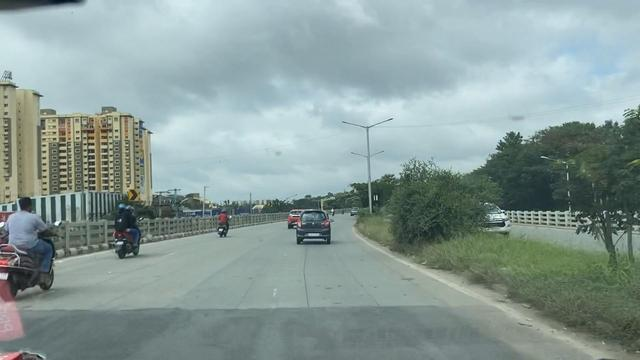LMV: (10, 202, 58, 283), (114, 208, 139, 248), (298, 211, 328, 241), (219, 211, 229, 234)
